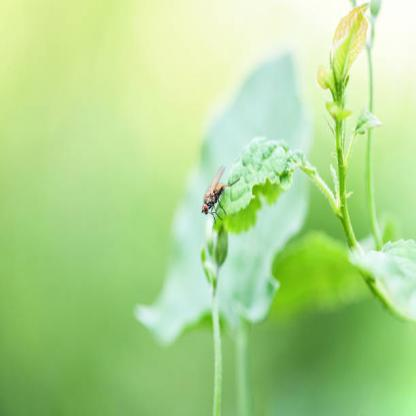sawfly: (195, 159, 236, 222)
